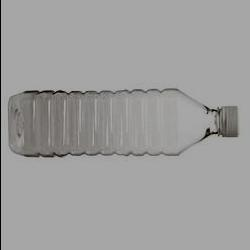bottle: (4, 85, 243, 162)
